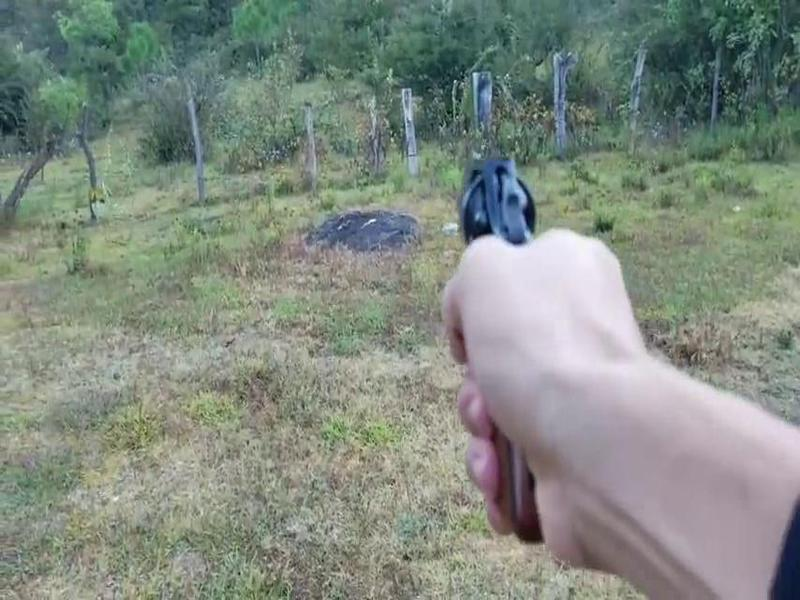Revolver: (441, 140, 560, 561)
